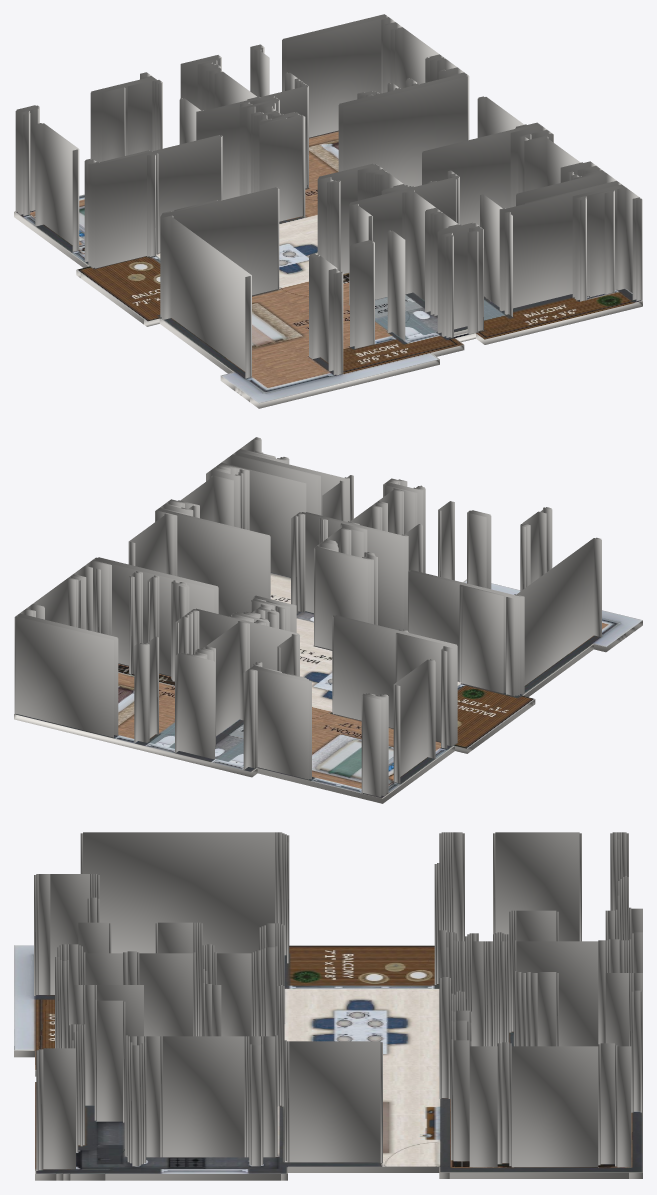
File: SPR_unit_A_conceptual.glb
3 views of the same model, one above another, from view 1: azimuth 30°, elevation 25°; view 2: azimuth 150°, elevation 25°; view 3: azimuth 270°, elevation 25° (orthographic). The views are drawn at different scales.
Visible parts, largest first — view 1: UnitA_walls_from_plan, UnitA_floor_brochure_plan, UnitA_slab; view 2: UnitA_walls_from_plan, UnitA_floor_brochure_plan, UnitA_slab; view 3: UnitA_walls_from_plan, UnitA_floor_brochure_plan, UnitA_slab.
Boxes of the visible parts, left/top/right/bottom form: UnitA_walls_from_plan: left=15, top=14, right=642, bottom=378; UnitA_floor_brochure_plan: left=14, top=130, right=642, bottom=403; UnitA_slab: left=14, top=212, right=642, bottom=408; UnitA_walls_from_plan: left=14, top=437, right=601, bottom=797; UnitA_floor_brochure_plan: left=14, top=572, right=642, bottom=798; UnitA_slab: left=14, top=620, right=642, bottom=803; UnitA_walls_from_plan: left=34, top=832, right=642, bottom=1170; UnitA_floor_brochure_plan: left=14, top=945, right=642, bottom=1173; UnitA_slab: left=14, top=1051, right=642, bottom=1180.
Size of the model in its own units: 11.73 by 3.05 by 13.64.
3 materials, 1 textured.
